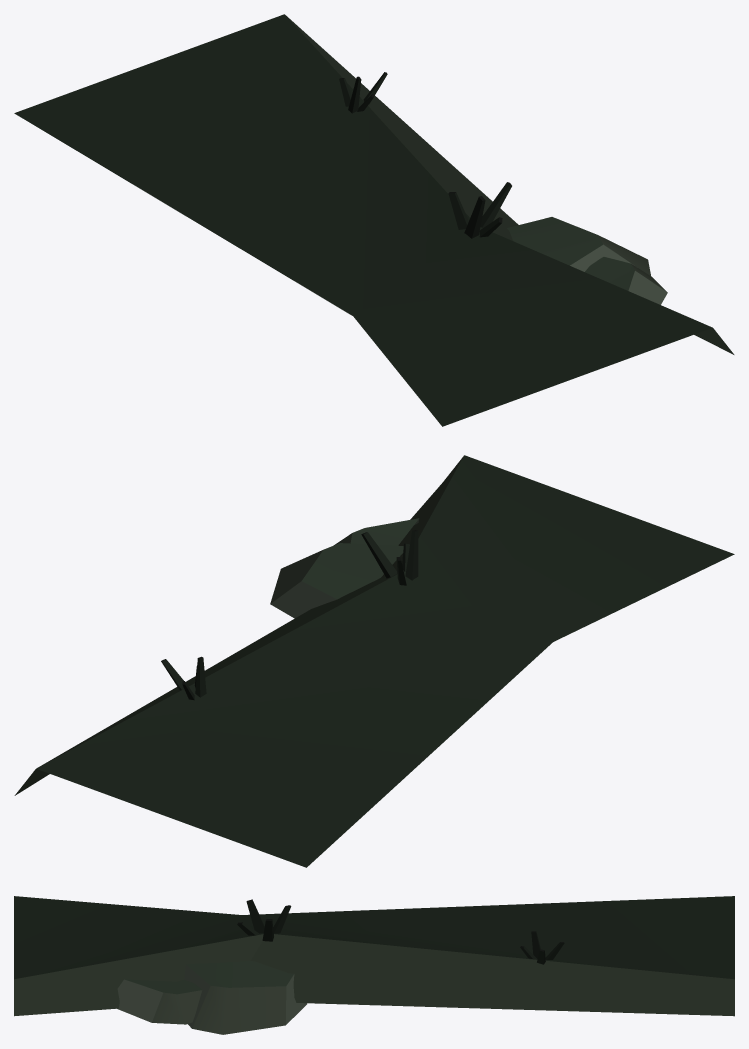
Rendered from SF_Env_GrassEdge_Straight_02.glb.
3 views of the same model, one above another, from view 1: azimuth 30°, elevation 25°; view 2: azimuth 150°, elevation 25°; view 3: azimuth 270°, elevation 25° (orthographic). The views are drawn at different scales.
Visible parts, largest first — view 1: SF_Env_GrassEdge_Straight_02; view 2: SF_Env_GrassEdge_Straight_02; view 3: SF_Env_GrassEdge_Straight_02.
Part boxes in pixels (x1,y1,x2,y2): SF_Env_GrassEdge_Straight_02: [14, 14, 734, 426]; SF_Env_GrassEdge_Straight_02: [14, 455, 734, 867]; SF_Env_GrassEdge_Straight_02: [14, 896, 734, 1034].
Size of the model in its own units: 0.0889 by 0.0236 by 0.2.
1 material, 1 textured.
